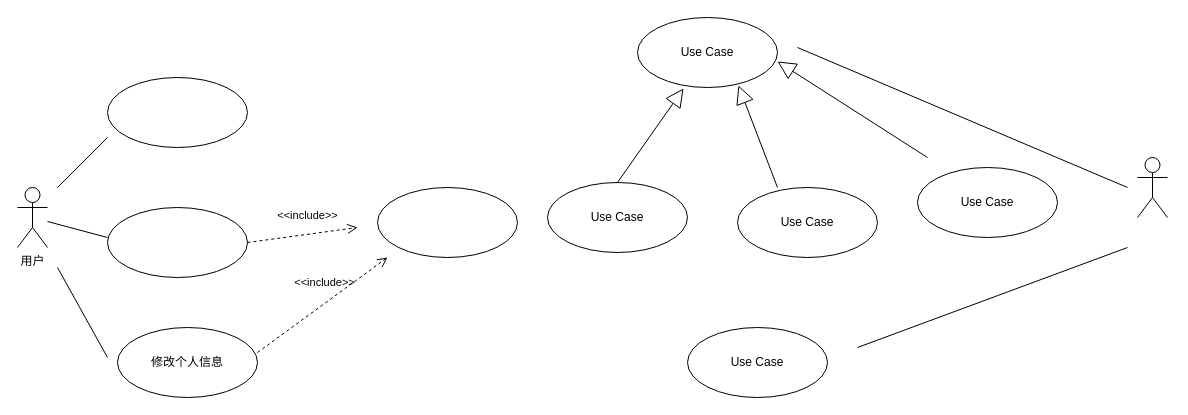
The diagram is 1188 pixels wide and 415 high, and some of its shapes have lost their labels. Here are the shapes that lost their labels. From the top down, the box of each, then its label:
(106, 76, 248, 148): 浏览
(1136, 156, 1168, 218): 管理员
(106, 206, 248, 278): 查询
(376, 186, 518, 258): 登陆
